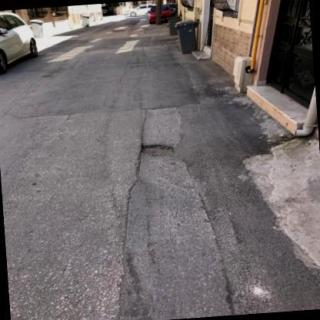pothole: (138, 144, 195, 188)
